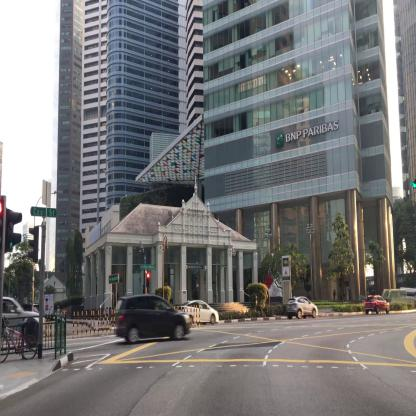red_traffic_light: (146, 272, 149, 288)
